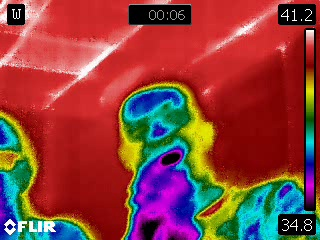human: (113, 79, 320, 240), (1, 108, 98, 240)
